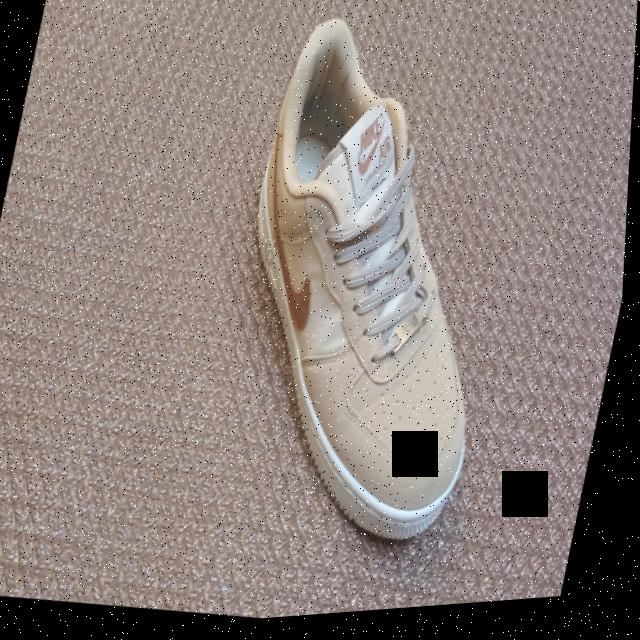shoes: (193, 1, 555, 571)
